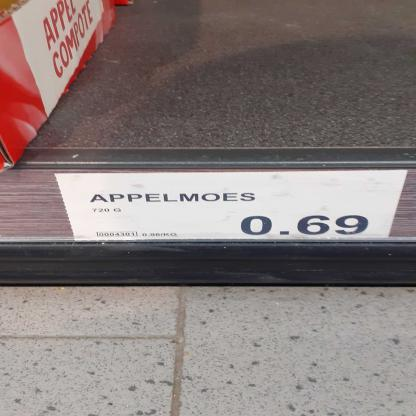prtg: (56, 172, 408, 242)
